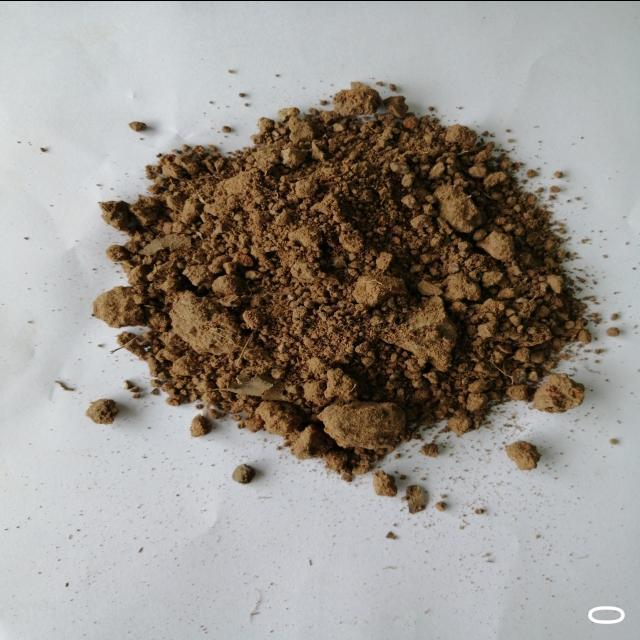soil: (210, 161, 520, 385)
